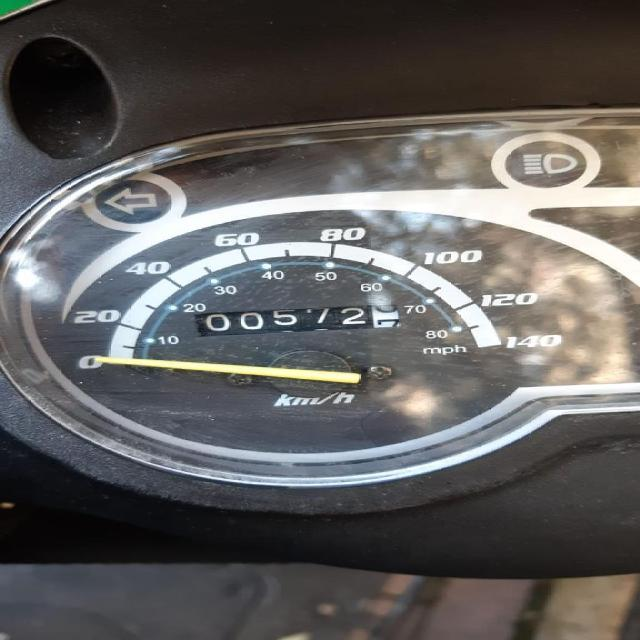odometer: (190, 302, 402, 337)
